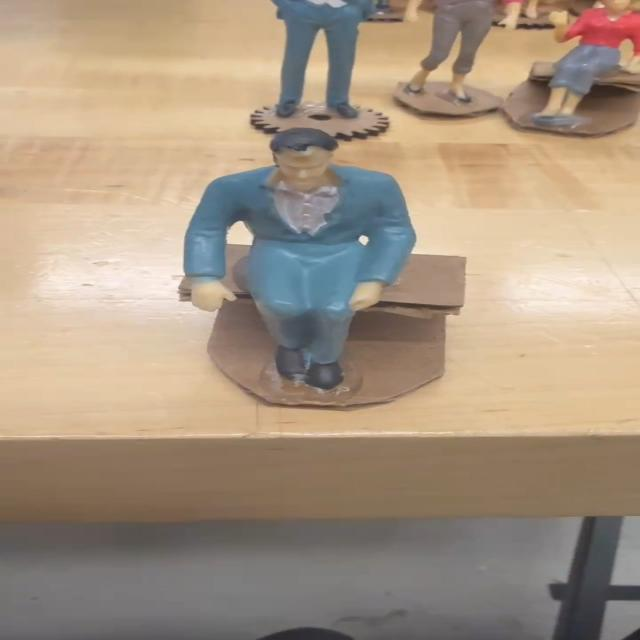Authorized: (138, 122, 452, 398)
